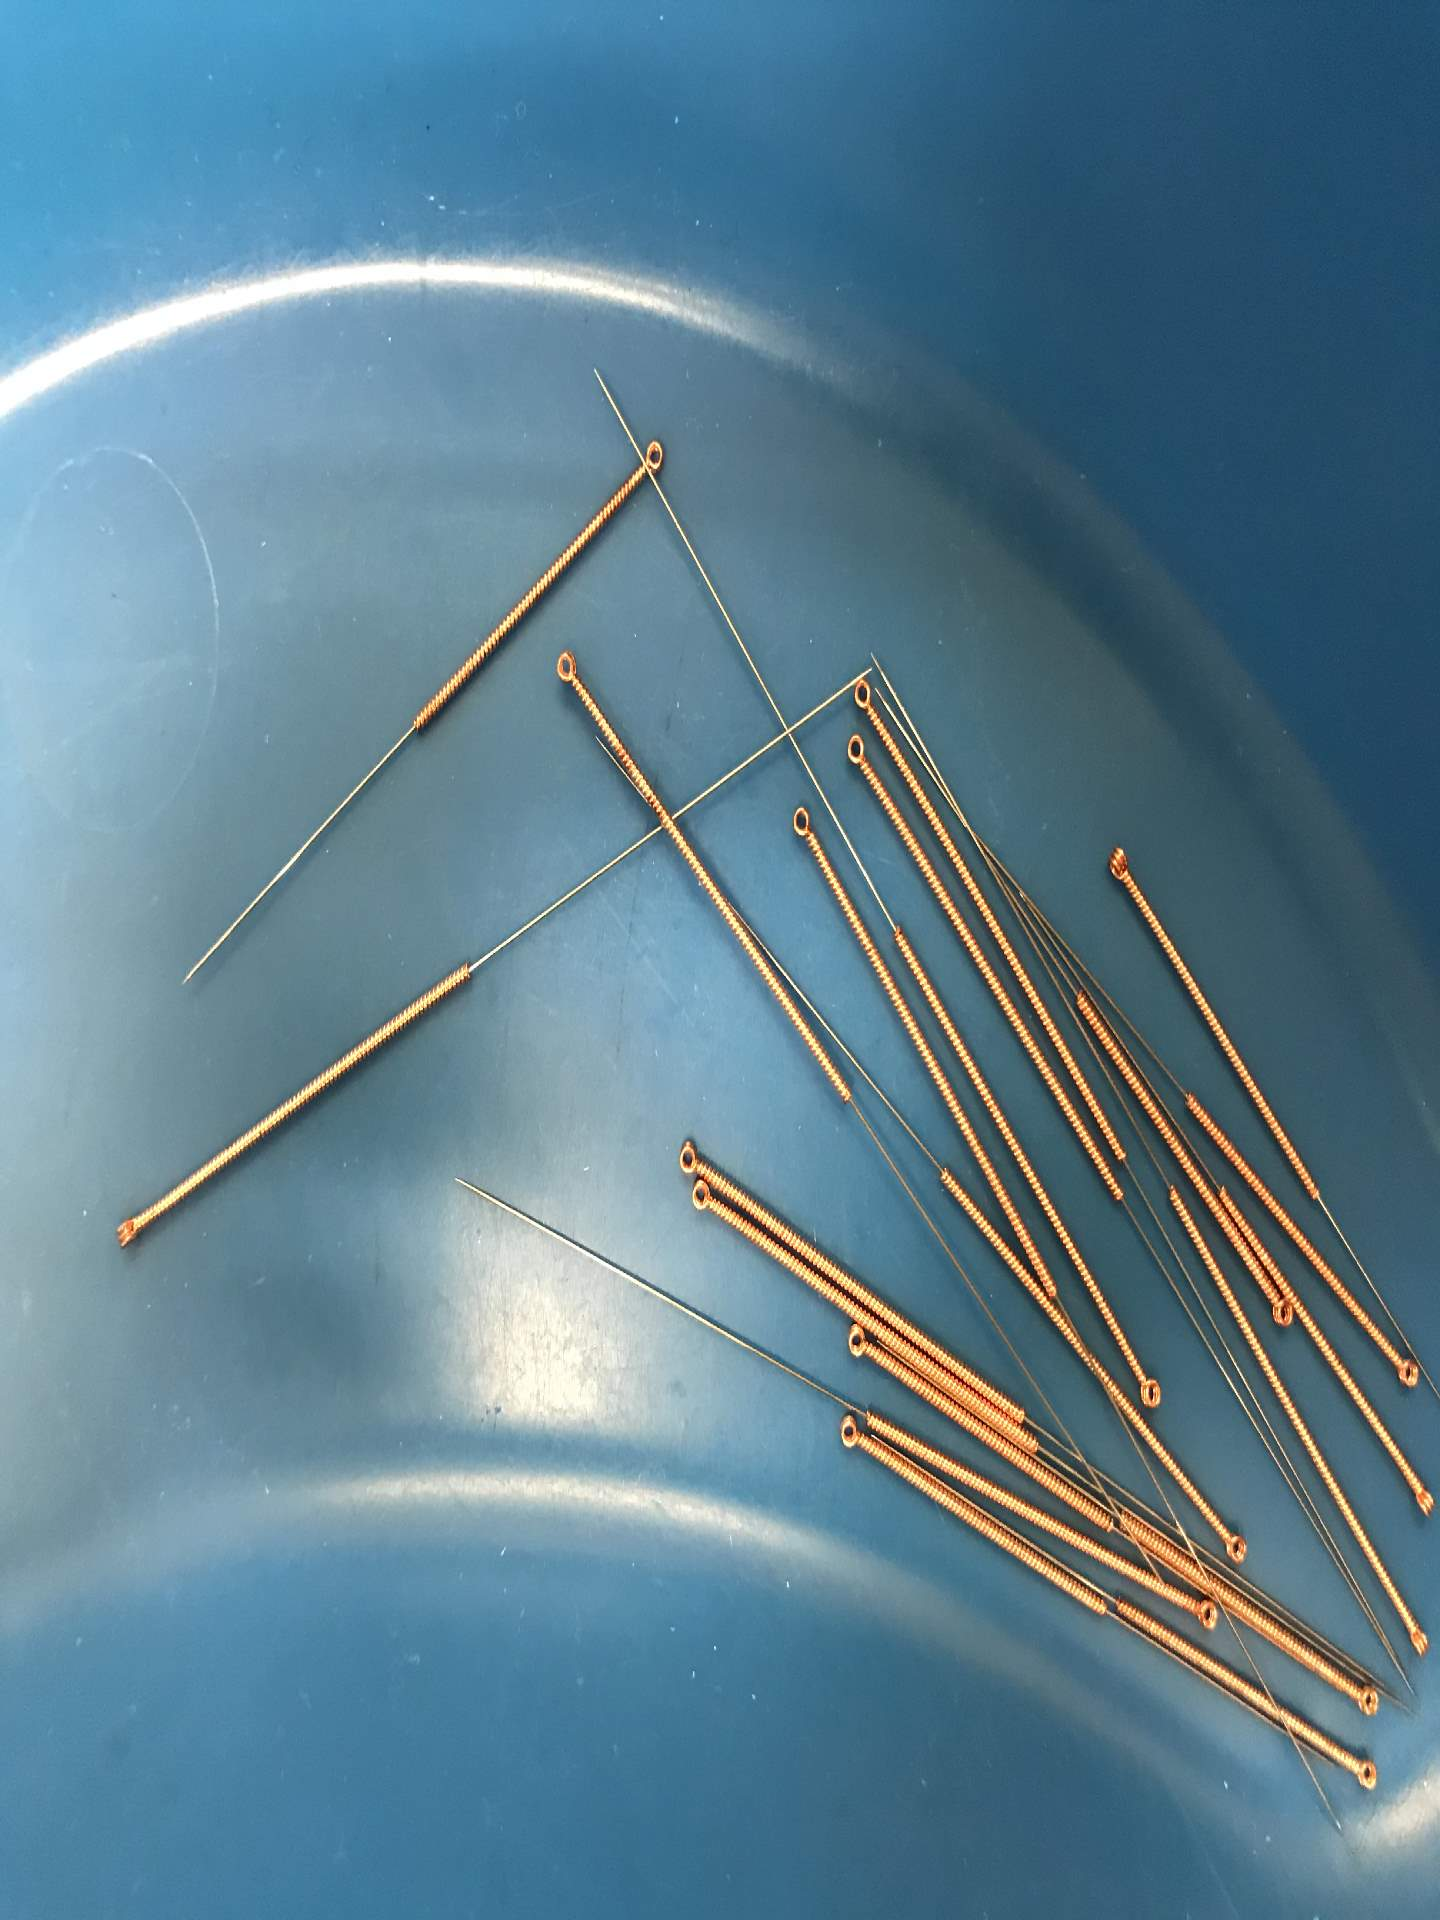needle: (1340, 1746, 1387, 1801), (629, 428, 675, 482), (545, 641, 588, 697), (781, 800, 824, 853), (1098, 838, 1141, 890), (666, 1134, 712, 1178), (1342, 1677, 1386, 1722), (1399, 1616, 1438, 1665), (106, 1208, 147, 1253), (839, 729, 876, 779), (1404, 1476, 1440, 1524), (678, 1178, 720, 1219), (846, 671, 880, 720), (1218, 1525, 1255, 1569), (830, 1411, 864, 1459), (1134, 1368, 1171, 1411), (1389, 1350, 1423, 1394), (1189, 1596, 1221, 1637), (843, 1321, 871, 1364), (1266, 1296, 1296, 1329)
